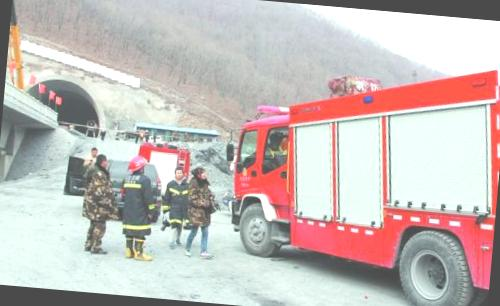no_helmet: (92, 153, 111, 170), (190, 166, 209, 182), (170, 166, 186, 182), (89, 146, 100, 158)
